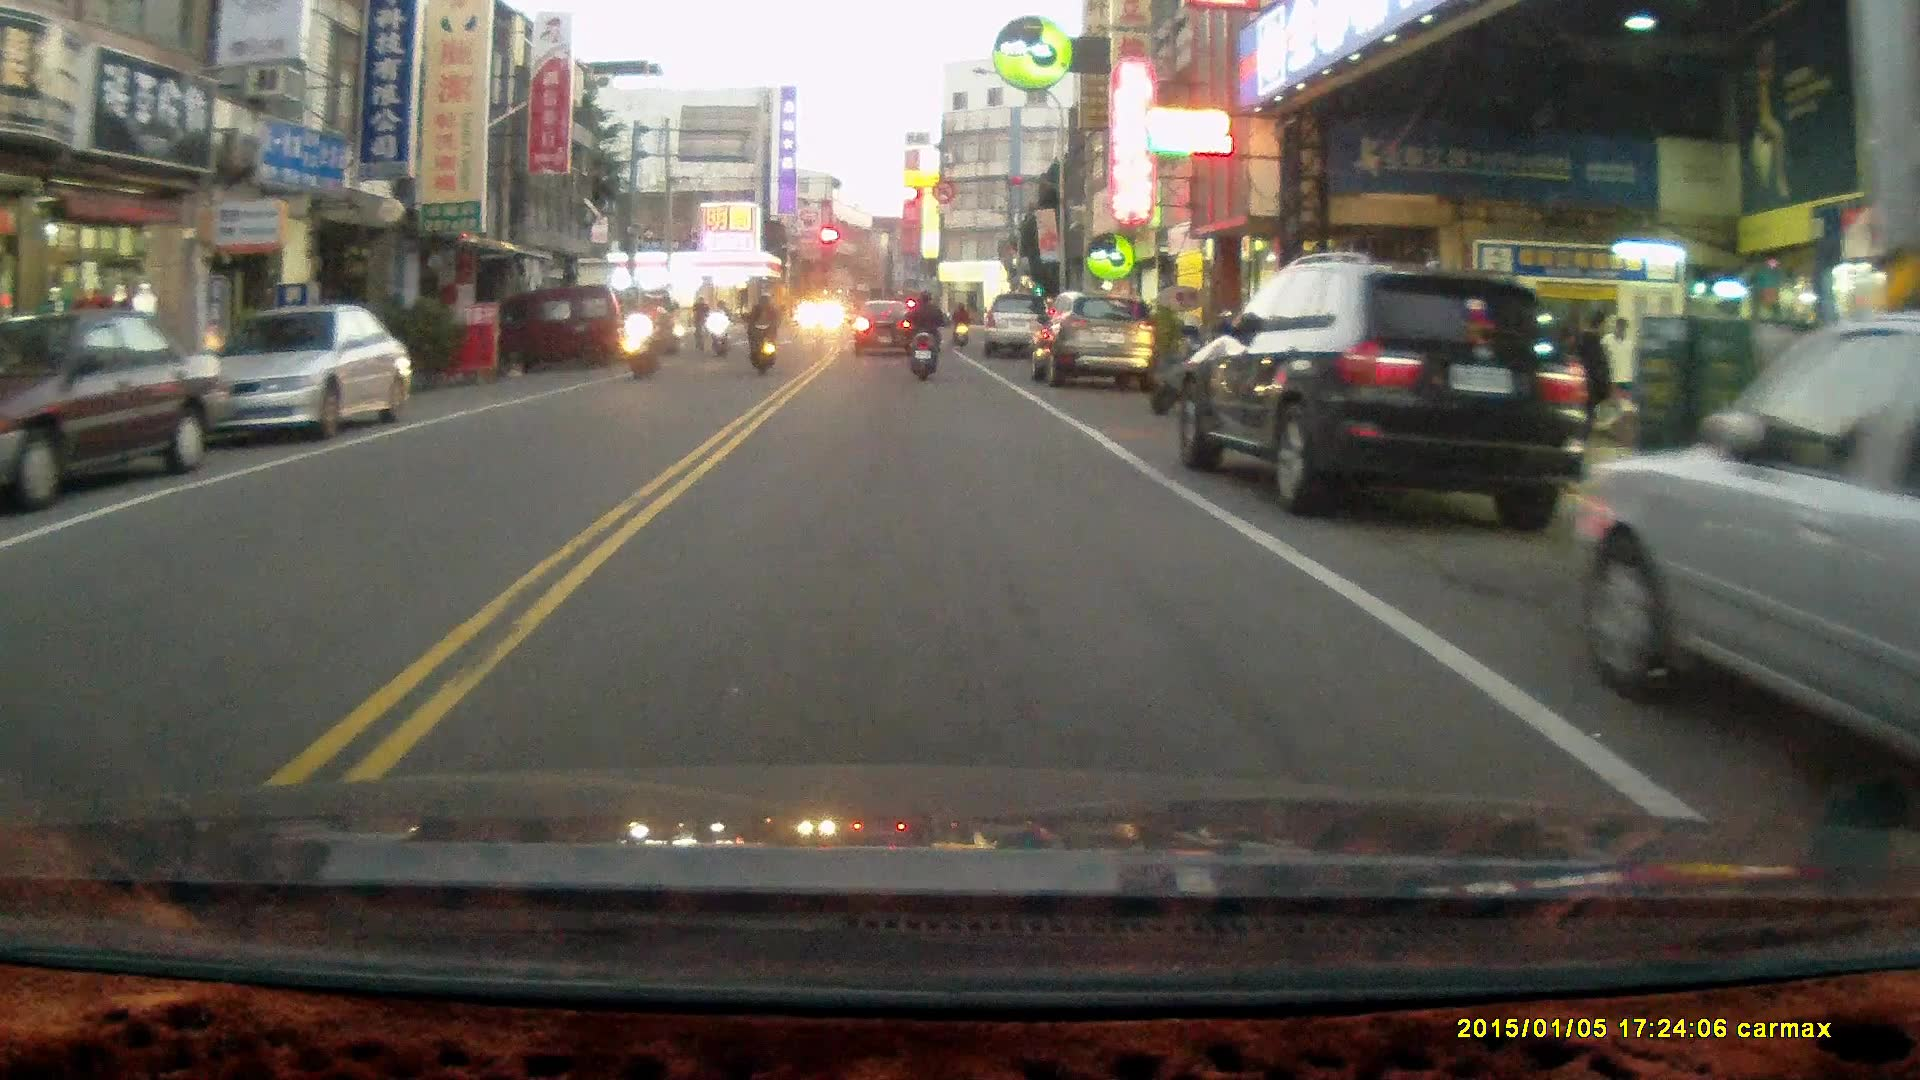pedestrian: (1565, 306, 1614, 502), (1597, 316, 1635, 442)
rider: (902, 287, 943, 380), (624, 290, 662, 382), (744, 289, 777, 376), (706, 295, 731, 356), (690, 291, 711, 355), (946, 295, 967, 343)
vehicle: (1566, 318, 1920, 773), (1177, 253, 1588, 529), (7, 305, 234, 507), (183, 303, 420, 442), (1028, 293, 1158, 387), (524, 284, 637, 364), (975, 290, 1062, 363)
